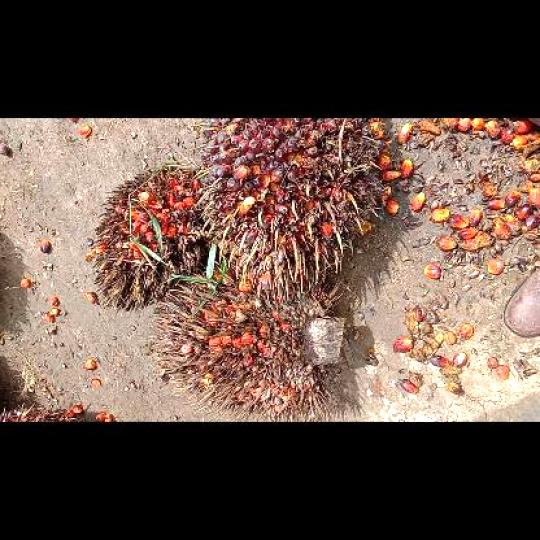masak: (196, 118, 401, 303)
terlalu masak: (148, 271, 350, 420), (91, 162, 205, 310)
